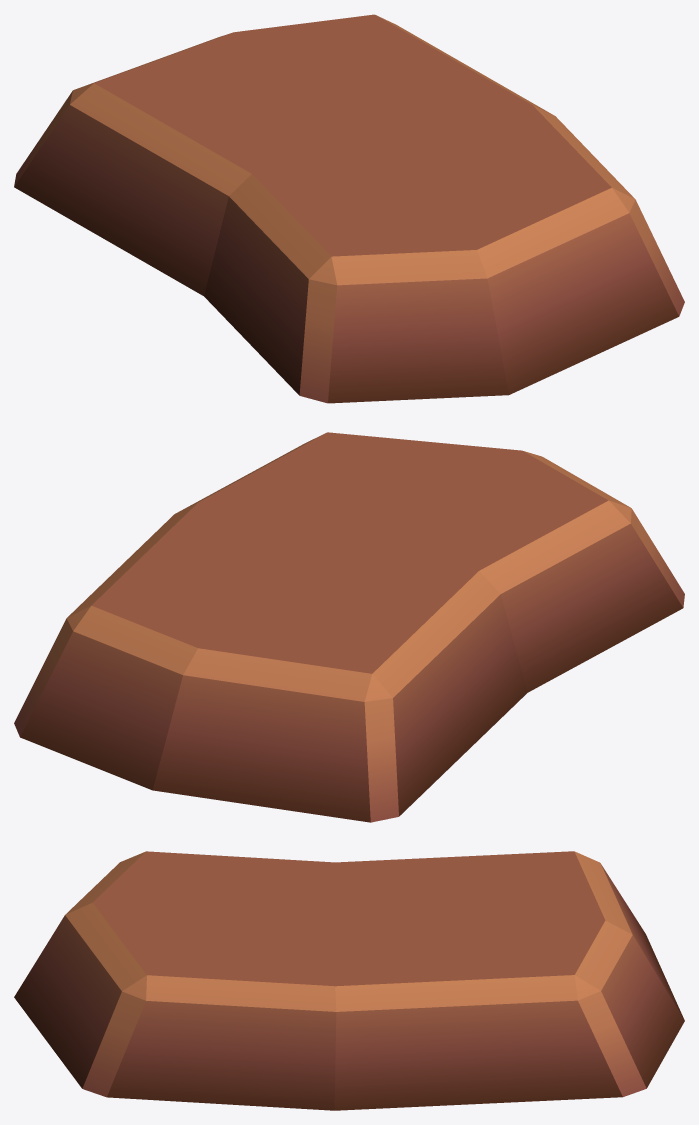
The model's file is Roadstones-2-3.fbx.
3 renders of one model, top to bottom at view 1: azimuth 30°, elevation 25°; view 2: azimuth 150°, elevation 25°; view 3: azimuth 270°, elevation 25°, orthographic. The views are drawn at different scales.
Visible parts, largest first — view 1: Roadstones-2-3; view 2: Roadstones-2-3; view 3: Roadstones-2-3.
Part boxes in pixels (box(x1,y1,x2,y2)): Roadstones-2-3: box(14, 14, 684, 403); Roadstones-2-3: box(14, 432, 684, 822); Roadstones-2-3: box(14, 851, 684, 1110).
Bounding box in the file's own units: 70.92 × 18.02 × 110.
